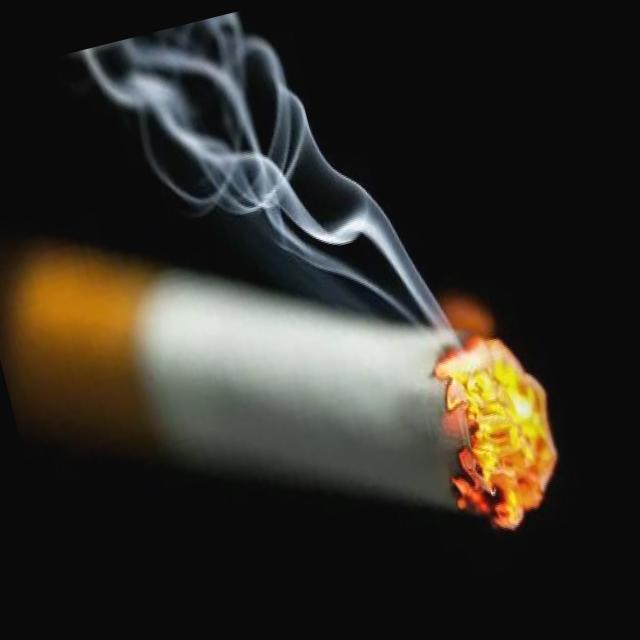cigarette: (0, 114, 584, 640)
